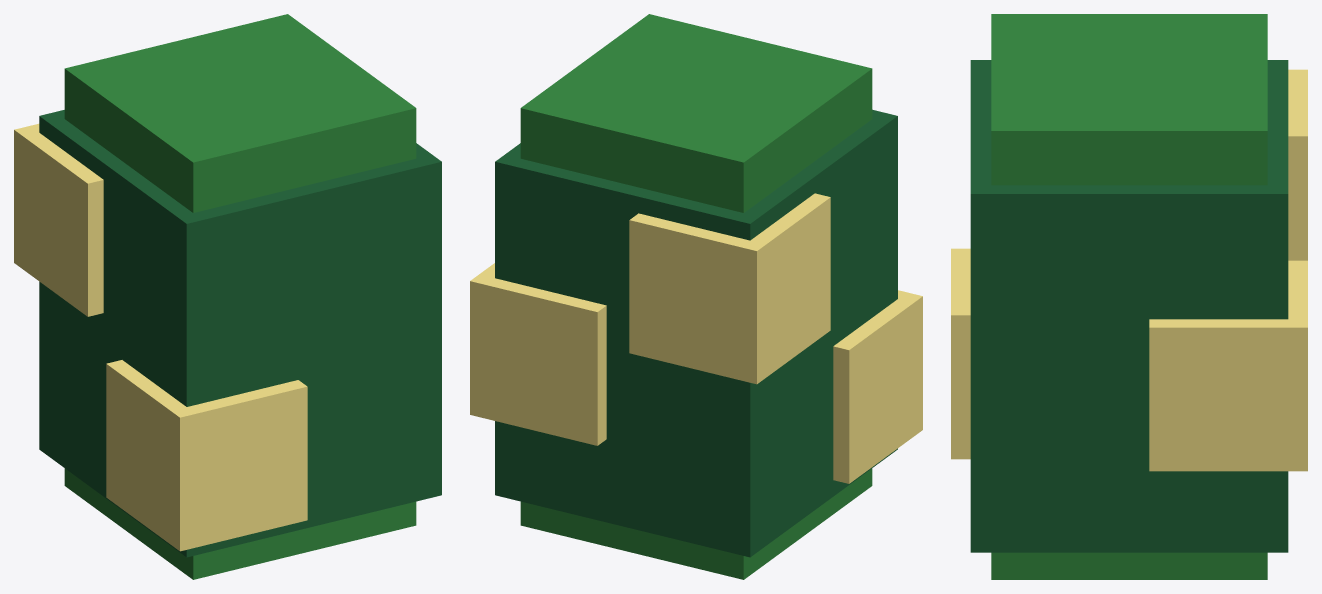
Rendered from egg_triceratops.obj.
3 renders of one model, left to right at view 1: azimuth 30°, elevation 25°; view 2: azimuth 150°, elevation 25°; view 3: azimuth 270°, elevation 25°, orthographic. The views are drawn at different scales.
Parts seen in each view (by area): view 1: egg_triceratops; view 2: egg_triceratops; view 3: egg_triceratops.
Part boxes in pixels (x1=…): egg_triceratops: x1=14, y1=14, x2=441, y2=579; egg_triceratops: x1=470, y1=14, x2=922, y2=579; egg_triceratops: x1=951, y1=14, x2=1307, y2=579.
Bounding box in the file's own units: 5.23 × 7.27 × 5.24.
